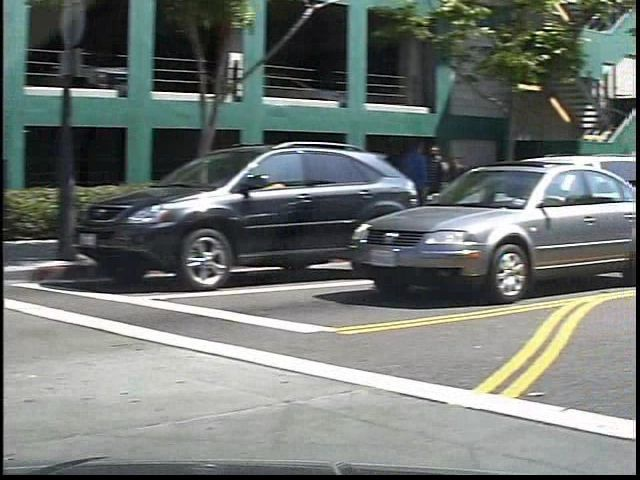person: (415, 134, 456, 240)
